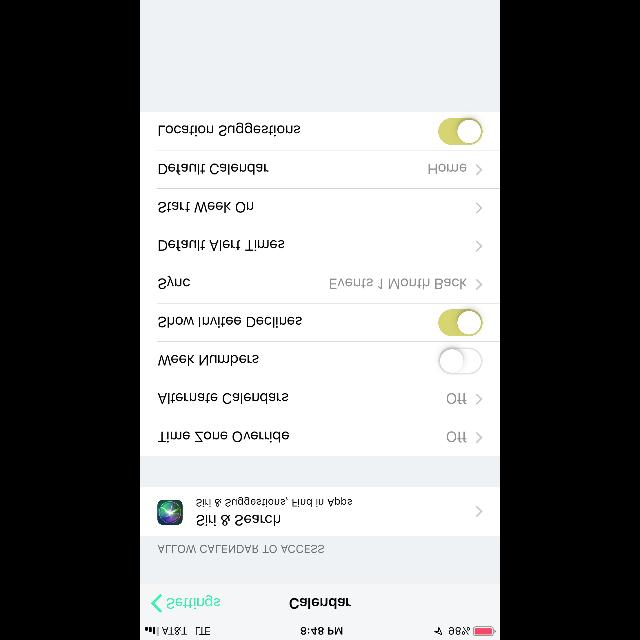icon: (152, 594, 162, 612), (476, 278, 482, 290), (476, 240, 482, 252), (476, 202, 482, 214), (476, 164, 482, 176), (476, 506, 482, 516), (476, 432, 482, 442), (476, 394, 482, 404)
image: (158, 500, 182, 524)
switch: (438, 308, 482, 336), (439, 348, 483, 374), (439, 118, 483, 144)
text: (160, 123, 300, 137), (158, 316, 302, 328), (329, 278, 466, 290), (196, 497, 352, 507), (159, 240, 285, 252), (158, 545, 324, 553), (158, 432, 290, 442), (158, 394, 288, 404), (159, 163, 269, 174), (159, 354, 259, 366), (197, 514, 281, 526), (158, 202, 254, 212), (167, 595, 220, 609), (289, 598, 351, 608), (158, 275, 190, 289), (429, 163, 467, 174), (447, 392, 467, 403), (447, 432, 467, 442)
uppertaskbar: (140, 626, 500, 640)
